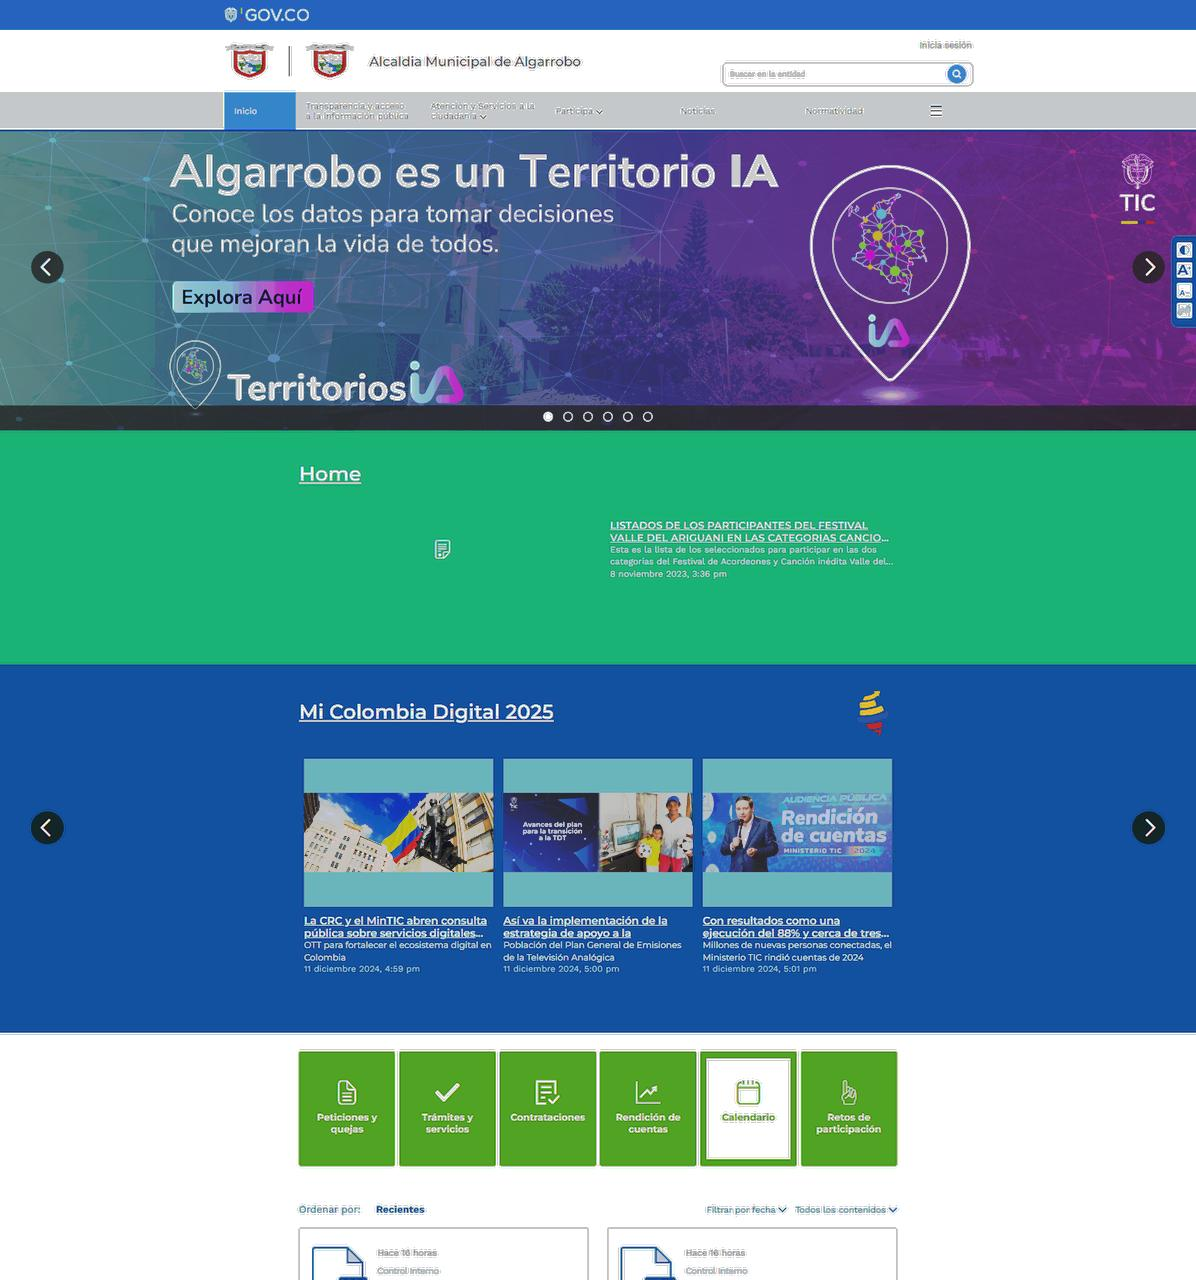banner principal: (0, 128, 1196, 432)
barra accesibilidad: (1171, 234, 1196, 328)
barra govco: (219, 1, 1013, 32)
btn atencion ciudadano: (428, 98, 540, 122)
btn buscador: (720, 60, 976, 88), (948, 63, 966, 85)
btn inicio: (232, 106, 259, 116)
btn inicio sesion: (918, 40, 974, 50)
btn normatividad: (803, 104, 865, 117)
btn noticias: (678, 105, 720, 117)
btn participa: (554, 104, 604, 119)
btn tramites: (418, 1111, 476, 1136)
btn transpariencia: (303, 98, 411, 123)
logogovco: (221, 6, 310, 25)
menu principal: (228, 90, 947, 124)
